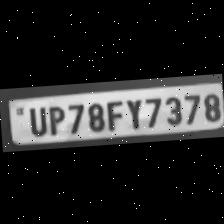3: (160, 92, 182, 126)
7: (62, 100, 84, 134), (140, 94, 162, 128), (180, 90, 200, 123)
8: (83, 98, 105, 132), (200, 90, 222, 122)
F: (102, 97, 124, 131)
P: (44, 102, 66, 134)
U: (23, 104, 48, 136)
Y: (122, 94, 142, 128)
